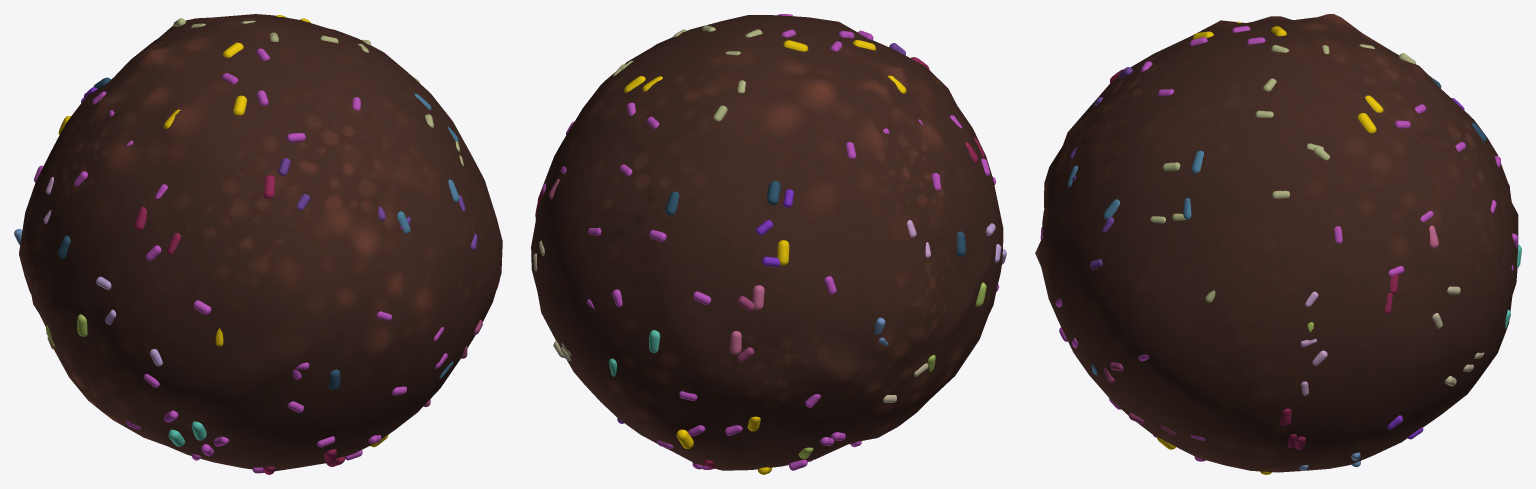
The model's file is baking.glb.
3 renders of one model, left to right at view 1: azimuth 30°, elevation 25°; view 2: azimuth 150°, elevation 25°; view 3: azimuth 270°, elevation 25°, orthographic.
Parts seen in each view (by area): view 1: ChocolateBall1, Sprinkles1; view 2: ChocolateBall1, Sprinkles1; view 3: ChocolateBall1, Sprinkles1.
Part boxes in pixels (box(x1,y1,x2,y2)): ChocolateBall1: box(19, 14, 502, 471); Sprinkles1: box(14, 15, 499, 474); ChocolateBall1: box(531, 15, 1003, 470); Sprinkles1: box(533, 14, 1006, 474); ChocolateBall1: box(1035, 14, 1518, 472); Sprinkles1: box(1040, 21, 1521, 474).
Size of the model in its own units: 0.038 by 0.0369 by 0.0397.
Materials: 2 (2 with a texture image).
